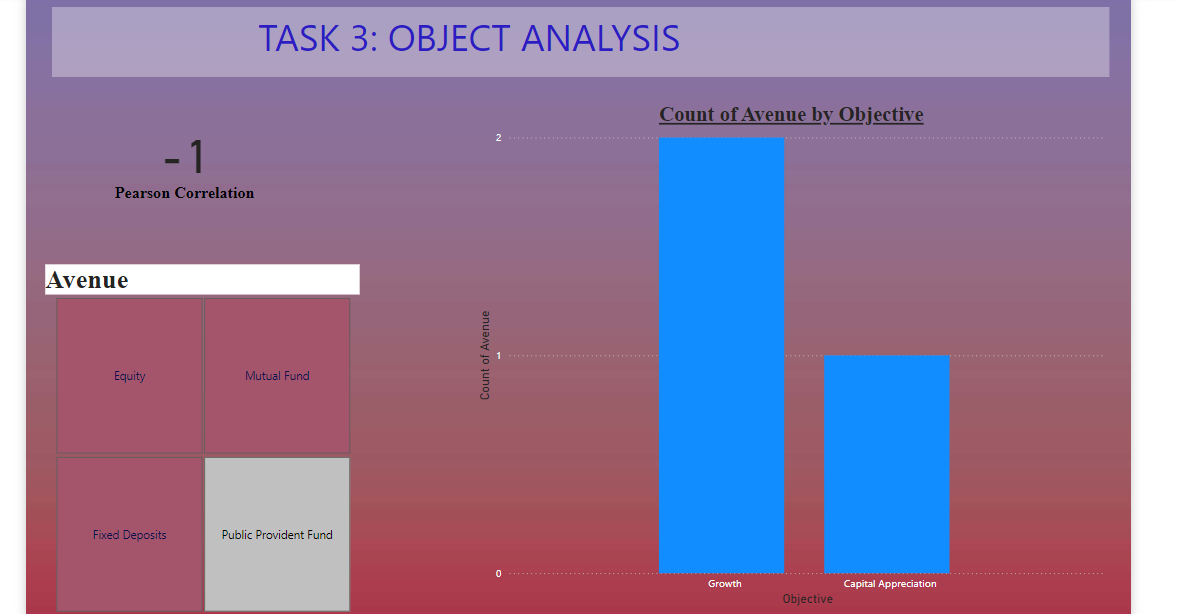

Layout of this report page (visuals, bound fields, positions):
{"tool":"powerbi","page":{"name":"Task 3","canvas":[1280,720],"ordinal":2},"visuals":[{"type":"card","fields":{"Values":["Data_set 2.Pearson Correlation"]},"box":[9.6,93.3,348.5,190.7],"z":0},{"type":"columnChart","fields":{"Category":["Data_set 2.Objective"],"Y":["CountNonNull(Data_set 2.Avenue)"]},"box":[517.3,123.5,736.9,587.3],"z":1000},{"type":"slicer","fields":{"Values":["Data_set 2.Avenue"]},"box":[9.6,306,389.7,414.4],"z":2000},{"type":"textbox","box":[30.2,12.3,1224,81],"z":3000}]}

Visuals, with their boxes on the page's 1280x720 design canvas (x1, y1, x2, y2). These are canvas units, not pixel positions in the 1178x614 screenshot, which may show the page scaled, cropped or inside an application window:
card - Data_set 2.Pearson Correlation: {"x1": 10, "y1": 93, "x2": 358, "y2": 284}
columnChart - Data_set 2.Objective x CountNonNull(Data_set 2.Avenue): {"x1": 517, "y1": 124, "x2": 1254, "y2": 711}
slicer - Data_set 2.Avenue: {"x1": 10, "y1": 306, "x2": 399, "y2": 720}
textbox: {"x1": 30, "y1": 12, "x2": 1254, "y2": 93}
